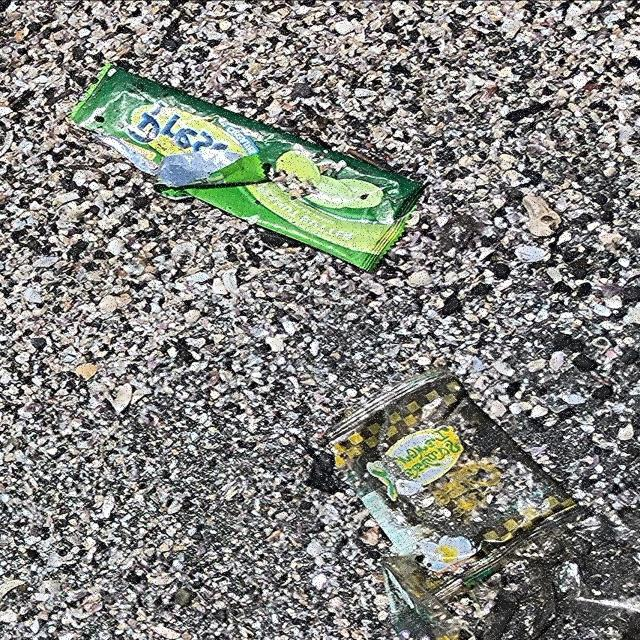plastic_waste: (71, 62, 427, 274), (324, 366, 591, 607)
